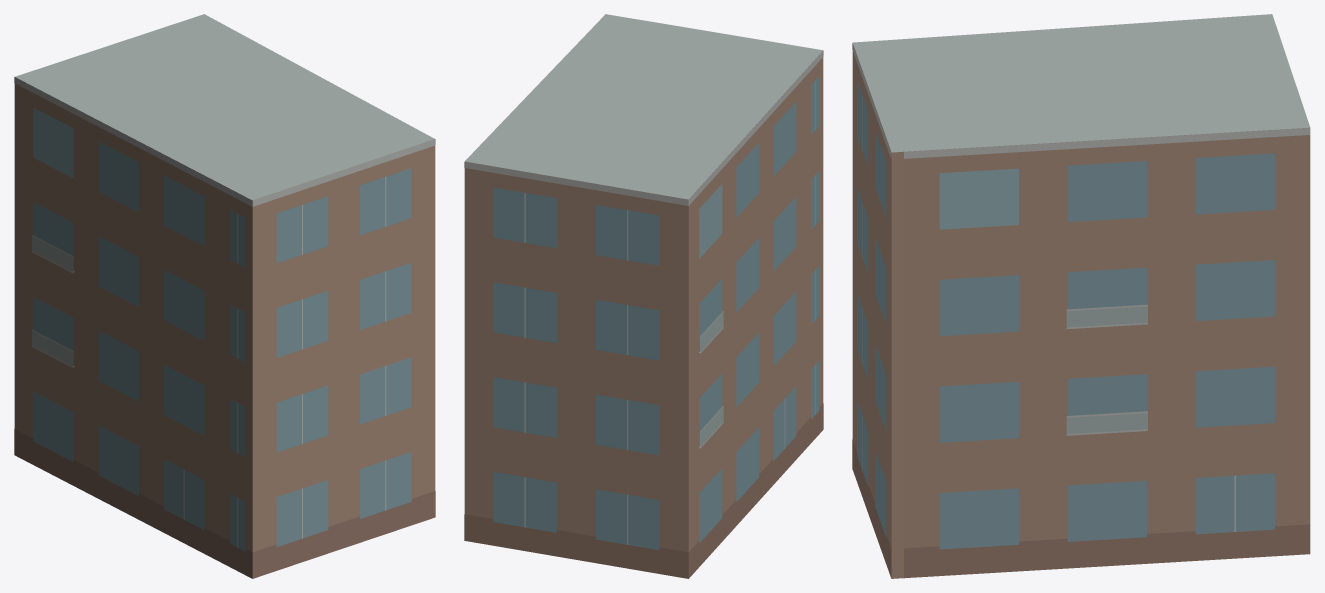
File: survey-upis-32495424.glb
The picture shows the model from 3 angles, left to right: view 1: azimuth 30°, elevation 25°; view 2: azimuth 150°, elevation 25°; view 3: azimuth 270°, elevation 25°; orthographic projection. The views are drawn at different scales.
Visible parts, largest first — view 1: survey-upis-32495424.tmp; view 2: survey-upis-32495424.tmp; view 3: survey-upis-32495424.tmp.
Boxes of the visible parts, x1=… form: survey-upis-32495424.tmp: x1=14, y1=14, x2=435, y2=578; survey-upis-32495424.tmp: x1=464, y1=14, x2=823, y2=578; survey-upis-32495424.tmp: x1=852, y1=14, x2=1310, y2=578.
Bounding box in the file's own units: 10.04 × 14.4 × 14.03.
